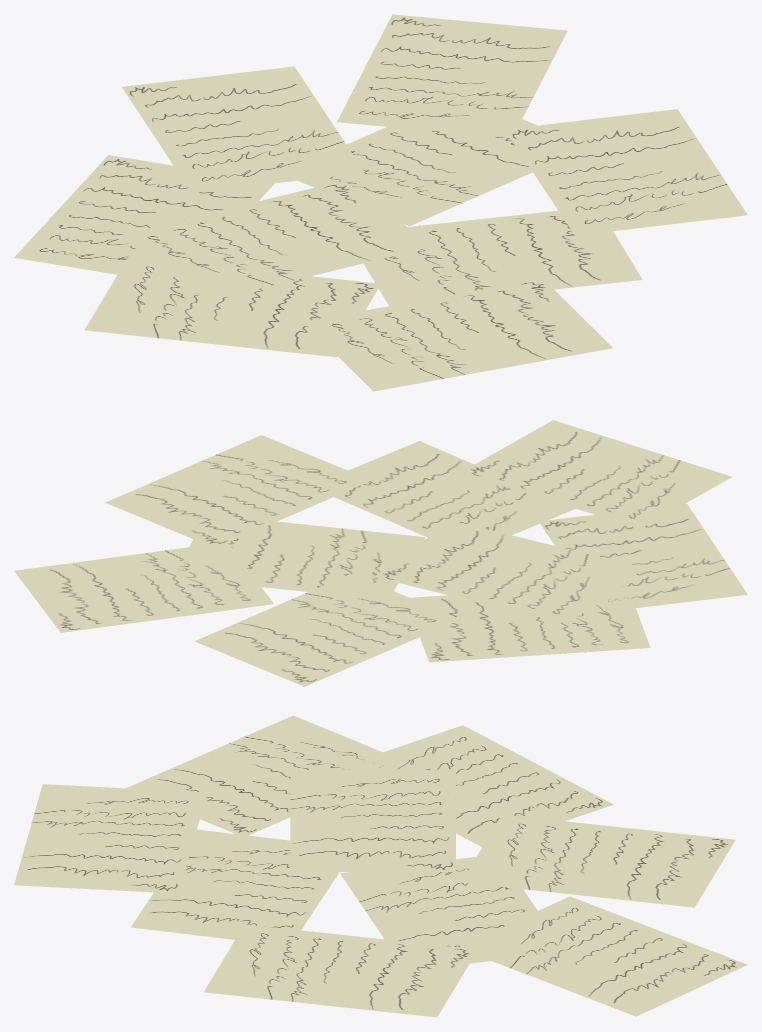
Rendered from Feuille_Tas.fbx.
3 renders of one model, top to bottom at view 1: azimuth 30°, elevation 25°; view 2: azimuth 150°, elevation 25°; view 3: azimuth 270°, elevation 25°, orthographic. The views are drawn at different scales.
Parts seen in each view (by area): view 1: Plane.008; view 2: Plane.008; view 3: Plane.008.
Part boxes in pixels (bbox=[...]): Plane.008: bbox=[14, 14, 747, 391]; Plane.008: bbox=[14, 420, 747, 686]; Plane.008: bbox=[14, 715, 747, 1017].
Size of the model in its own units: 88.15 by 0.0736 by 90.39.
